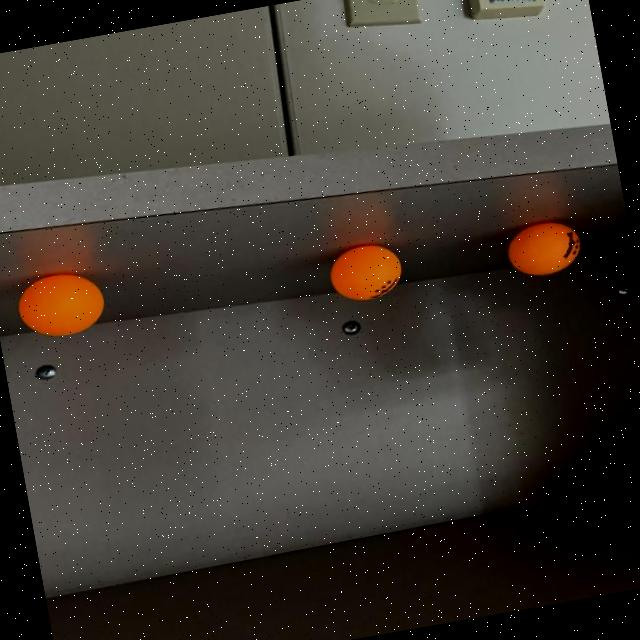ping-pong-ball: (7, 263, 111, 346), (500, 213, 588, 287), (321, 237, 407, 307)
